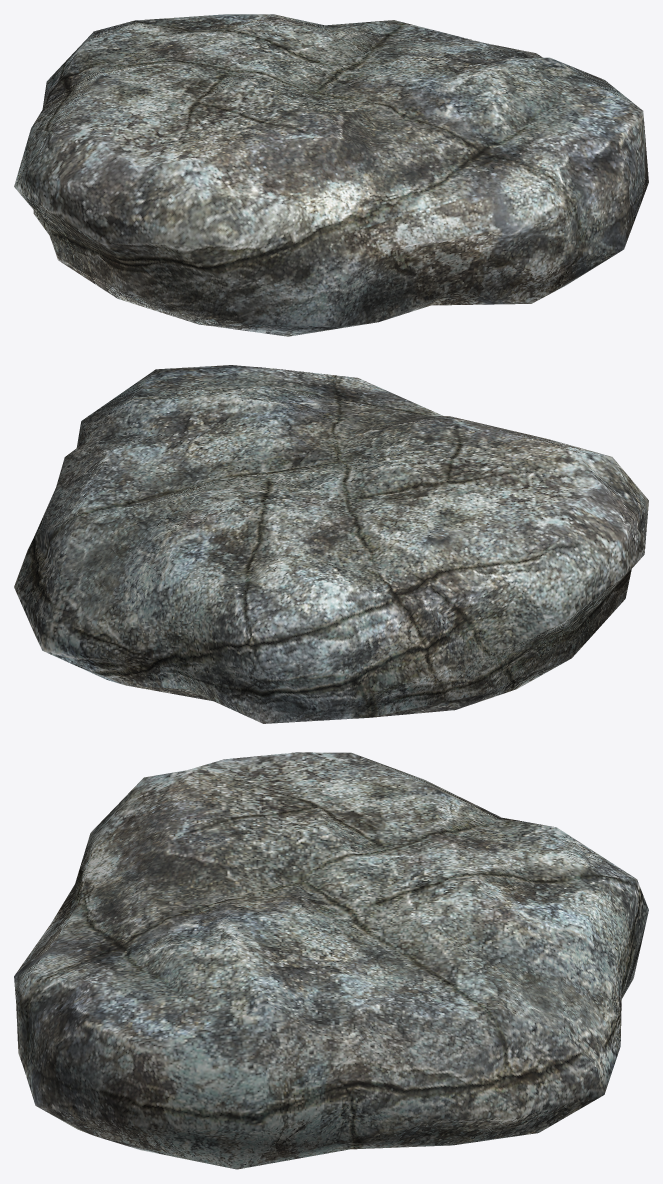
File: Rock6A.fbx
3 views of the same model, one above another, from view 1: azimuth 30°, elevation 25°; view 2: azimuth 150°, elevation 25°; view 3: azimuth 270°, elevation 25° (orthographic). The views are drawn at different scales.
Parts seen in each view (by area): view 1: polySurface15; view 2: polySurface15; view 3: polySurface15.
Part boxes in pixels (box(x1,y1,x2,y2)): polySurface15: box(14, 14, 648, 336); polySurface15: box(14, 365, 648, 723); polySurface15: box(14, 752, 648, 1169).
Bounding box in the file's own units: 10.04 × 3.19 × 9.13.
